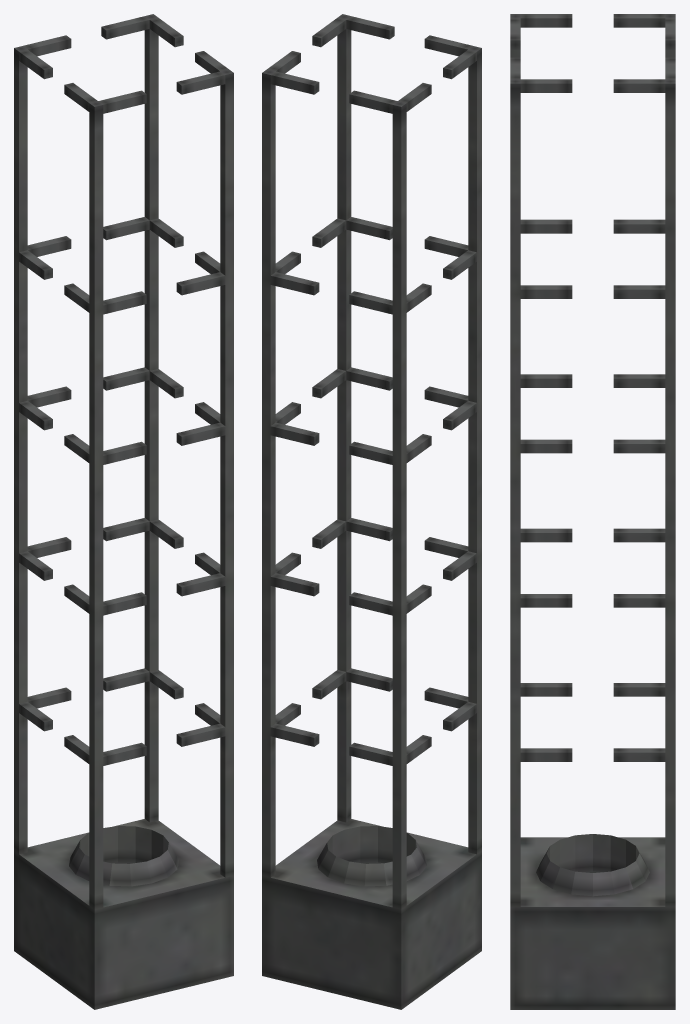
File: StandardSilo.obj
3 renders of one model, left to right at view 1: azimuth 30°, elevation 25°; view 2: azimuth 150°, elevation 25°; view 3: azimuth 270°, elevation 25°, orthographic. The views are drawn at different scales.
Visible parts, largest first — view 1: Group_001, Component_2_001, Component_2_004, Component_2_002, Component_2_003, Component_3_015, Component_3_012, Component_3_011, Component_3_014, Component_3_013, Component_3_036, Component_3_039 (+23 smaller); view 2: Group_001, Component_2_003, Component_2_002, Component_2_004, Component_2_001, Component_3_036, Component_3_038, Component_3_040, Component_3_037, Component_3_039, Component_3_015, Component_3_013 (+23 smaller); view 3: Group_001, Component_2_002, Component_2_004, Component_3_004, Component_3_030, Component_3_002, Component_3_019, Component_3_033, Component_3_027, Component_3_005, Component_3_003, Component_3_001 (+11 smaller).
Part boxes in pixels (x1=…): Group_001: x1=14, y1=819, x2=233, y2=1009; Component_2_001: x1=89, y1=101, x2=103, y2=909; Component_2_004: x1=144, y1=14, x2=158, y2=822; Component_2_002: x1=220, y1=69, x2=233, y2=877; Component_2_003: x1=14, y1=46, x2=27, y2=854; Component_3_015: x1=176, y1=71, x2=225, y2=94; Component_3_012: x1=176, y1=573, x2=225, y2=596; Component_3_011: x1=176, y1=723, x2=225, y2=746; Component_3_014: x1=176, y1=272, x2=225, y2=295; Component_3_013: x1=176, y1=422, x2=225, y2=445; Component_3_036: x1=101, y1=16, x2=149, y2=39; Component_3_039: x1=103, y1=367, x2=149, y2=390; Group_001: x1=262, y1=819, x2=481, y2=1009; Component_2_003: x1=392, y1=101, x2=406, y2=909; Component_2_002: x1=337, y1=14, x2=351, y2=822; Component_2_004: x1=262, y1=69, x2=275, y2=877; Component_2_001: x1=468, y1=46, x2=481, y2=854; Component_3_036: x1=270, y1=71, x2=319, y2=94; Component_3_038: x1=270, y1=723, x2=319, y2=746; Component_3_040: x1=270, y1=272, x2=319, y2=295; Component_3_037: x1=270, y1=573, x2=319, y2=596; Component_3_039: x1=270, y1=422, x2=319, y2=445; Component_3_015: x1=346, y1=16, x2=394, y2=39; Component_3_013: x1=346, y1=367, x2=392, y2=390; Group_001: x1=510, y1=834, x2=675, y2=1009; Component_2_002: x1=510, y1=79, x2=520, y2=906; Component_2_004: x1=665, y1=79, x2=675, y2=906; Component_3_004: x1=520, y1=219, x2=572, y2=233; Component_3_030: x1=613, y1=219, x2=665, y2=233; Component_3_002: x1=520, y1=528, x2=572, y2=542; Component_3_019: x1=520, y1=439, x2=572, y2=453; Component_3_033: x1=613, y1=439, x2=665, y2=453; Component_3_027: x1=613, y1=528, x2=665, y2=542; Component_3_005: x1=520, y1=14, x2=572, y2=27; Component_3_003: x1=520, y1=374, x2=572, y2=387; Component_3_001: x1=520, y1=683, x2=572, y2=696.
Size of the model in its own units: 1 by 6.19 by 1.
